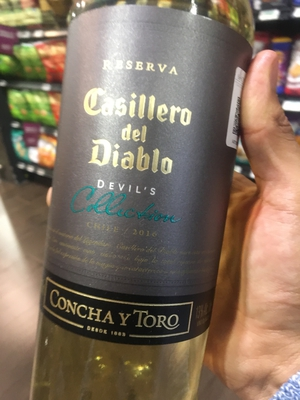casillero del diablo devils collection verde: (39, 1, 243, 400)
